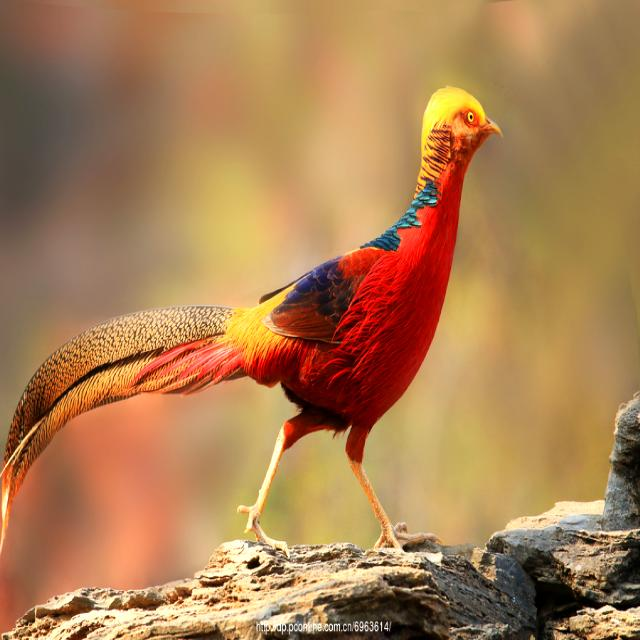Chrysolophus pictus feather: (0, 306, 257, 548)
